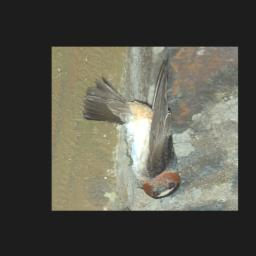Swallow: (82, 56, 182, 200)
